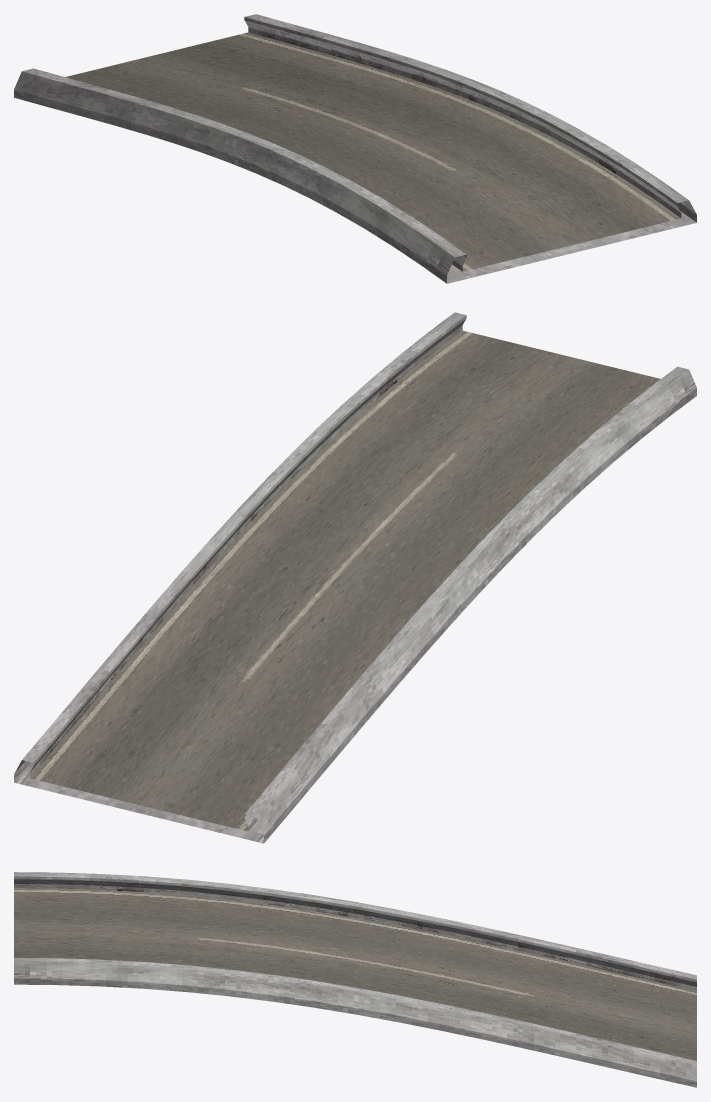
File: road-Straight-Flat-BiSlopeDown-Down2-Center-Size3.glb
3 renders of one model, top to bottom at view 1: azimuth 30°, elevation 25°; view 2: azimuth 150°, elevation 25°; view 3: azimuth 270°, elevation 25°, orthographic. The views are drawn at different scales.
Visible parts, largest first — view 1: road-Straight-Flat-BiSlopeDown-Down2-Center-Size3; view 2: road-Straight-Flat-BiSlopeDown-Down2-Center-Size3; view 3: road-Straight-Flat-BiSlopeDown-Down2-Center-Size3.
Part boxes in pixels (bbox=[...]): road-Straight-Flat-BiSlopeDown-Down2-Center-Size3: bbox=[14, 14, 696, 283]; road-Straight-Flat-BiSlopeDown-Down2-Center-Size3: bbox=[14, 312, 696, 843]; road-Straight-Flat-BiSlopeDown-Down2-Center-Size3: bbox=[14, 872, 696, 1087].
Size of the model in its own units: 1 by 0.5938 by 3.
Materials: 2 (2 with a texture image).
